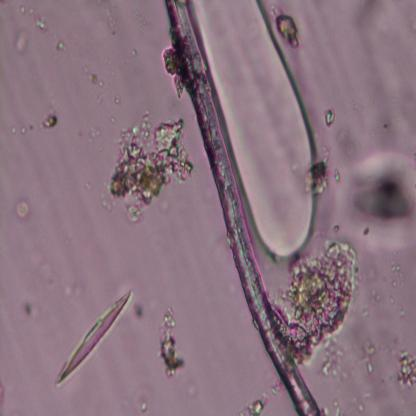Air bubble: (196, 1, 321, 261)
Background material: (102, 110, 193, 221), (278, 236, 362, 354), (338, 148, 416, 249), (159, 305, 188, 378), (238, 381, 284, 415), (319, 332, 351, 380), (274, 9, 304, 50), (353, 0, 382, 37), (306, 157, 332, 196), (394, 345, 416, 391), (19, 6, 49, 34), (128, 383, 154, 413), (359, 340, 376, 375), (81, 65, 105, 88), (21, 296, 42, 322), (320, 103, 339, 129), (14, 198, 32, 220), (42, 110, 60, 132), (16, 25, 29, 50), (134, 300, 146, 323), (53, 40, 66, 53)
Diatom: (164, 0, 320, 414), (55, 291, 134, 387)
